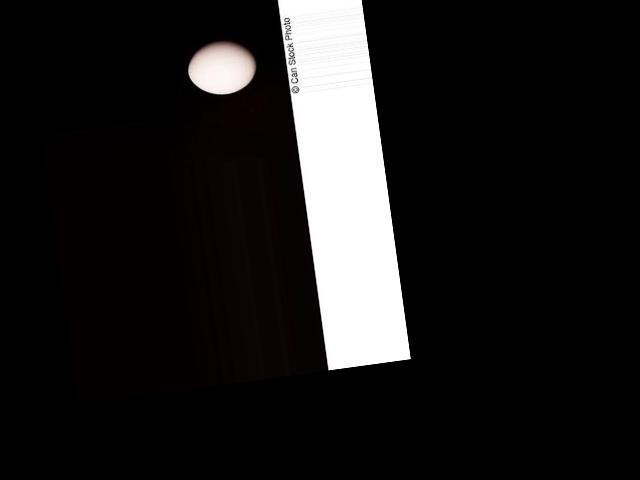egg: (184, 36, 261, 98)
